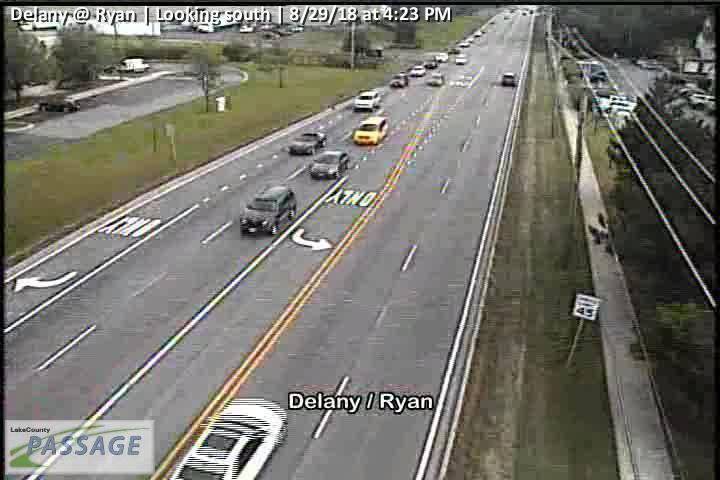SUV: (241, 186, 296, 238), (353, 115, 388, 145), (353, 89, 381, 111), (390, 73, 408, 87), (502, 72, 515, 86)
Sedan: (170, 398, 288, 480), (311, 151, 350, 178), (289, 131, 327, 155), (429, 73, 443, 85), (410, 65, 425, 76)
